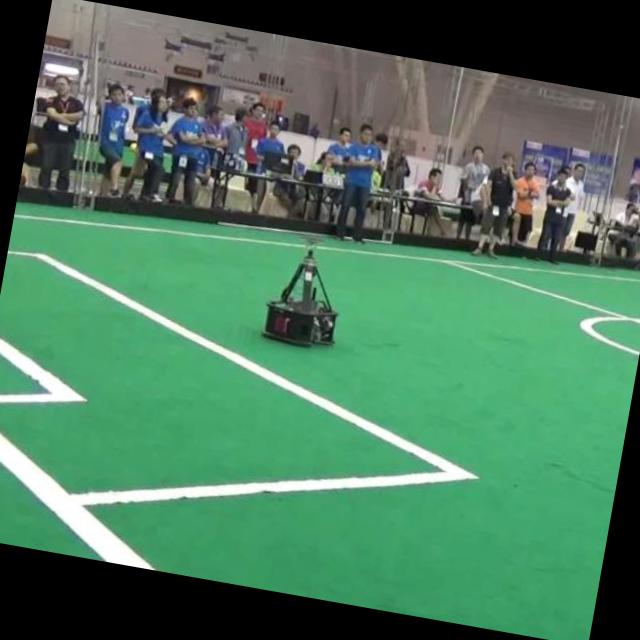robot: (262, 237, 337, 345)
